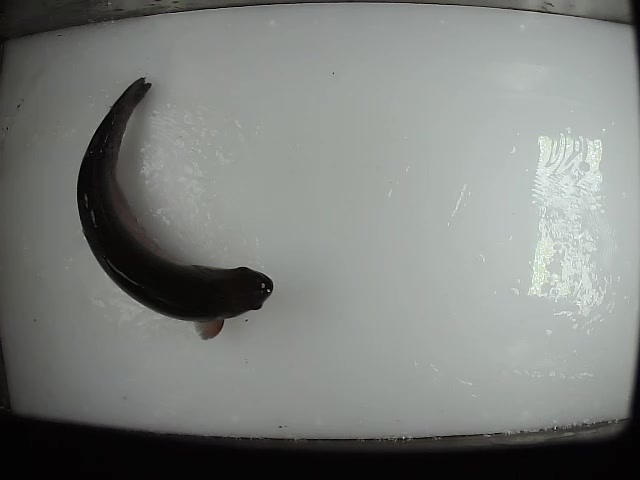fish: (75, 75, 274, 342)
